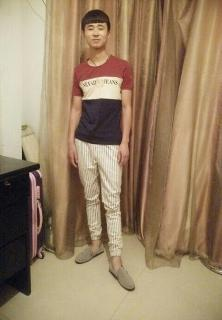short sleeve top: (72, 54, 134, 145)
trousers: (75, 130, 124, 257)
